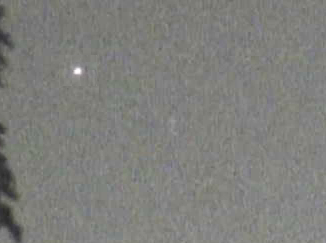Target: (75, 68, 82, 74)
